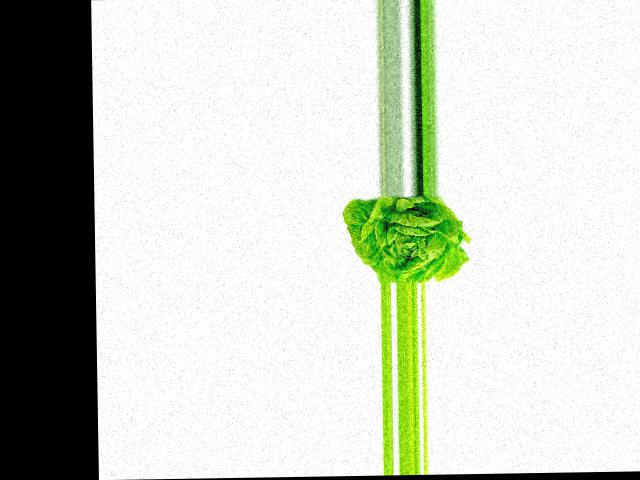lettuce: (340, 194, 466, 284)
